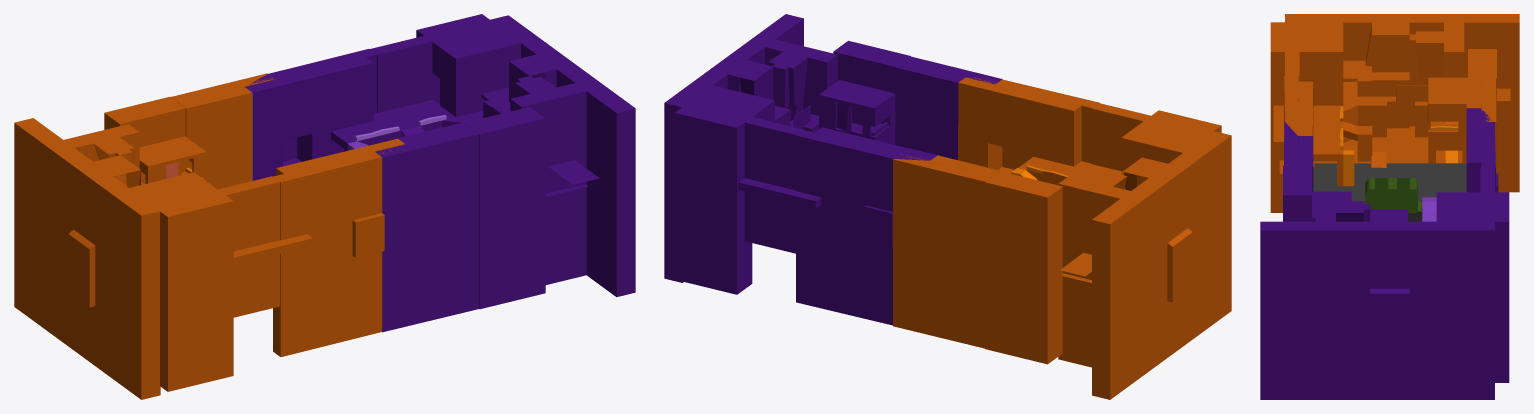
File: Big Bass v2.glb
3 views of the same model, side by side, from view 1: azimuth 30°, elevation 25°; view 2: azimuth 150°, elevation 25°; view 3: azimuth 270°, elevation 25° (orthographic). The views are drawn at different scales.
Parts seen in each view (by area): view 1: Orange Bass.004, Orange Bass.002; view 2: Orange Bass.004, Orange Bass.002; view 3: Orange Bass.002, Orange Bass.004, Plane.013, Cube.008, Cube.007.
Part boxes in pixels (x1,y1,x2,y2): Orange Bass.004: [14, 73, 404, 399]; Orange Bass.002: [245, 14, 635, 332]; Orange Bass.004: [893, 77, 1231, 399]; Orange Bass.002: [664, 14, 1002, 325]; Orange Bass.002: [1260, 108, 1509, 399]; Orange Bass.004: [1270, 14, 1519, 212]; Plane.013: [1364, 178, 1421, 212]; Cube.008: [1343, 150, 1354, 186]; Cube.007: [1422, 197, 1436, 221].
Bounding box in the file's own units: 159 × 56.93 × 78.92.
Materials: 1 (1 with a texture image).
